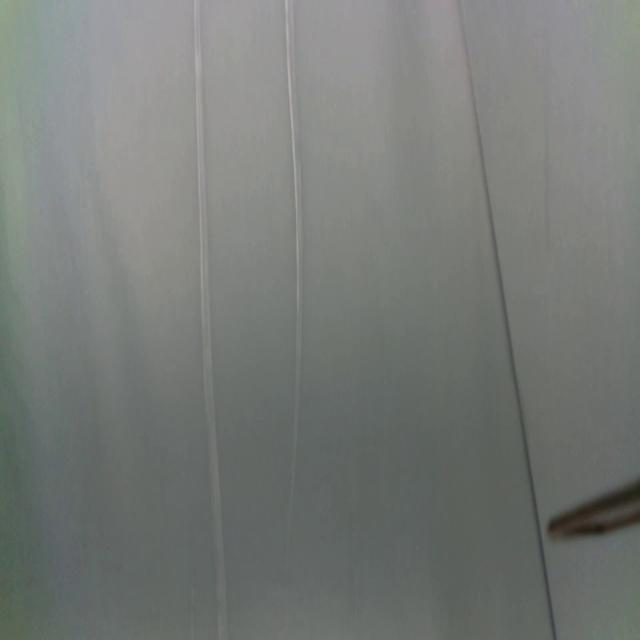crease: (458, 0, 558, 640), (192, 0, 230, 636), (282, 0, 304, 554)
